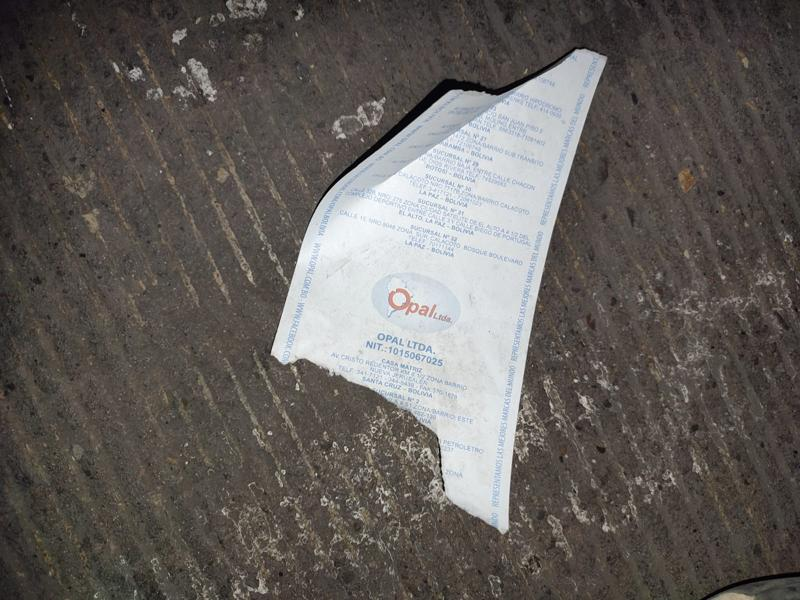papel: (271, 50, 608, 534)
